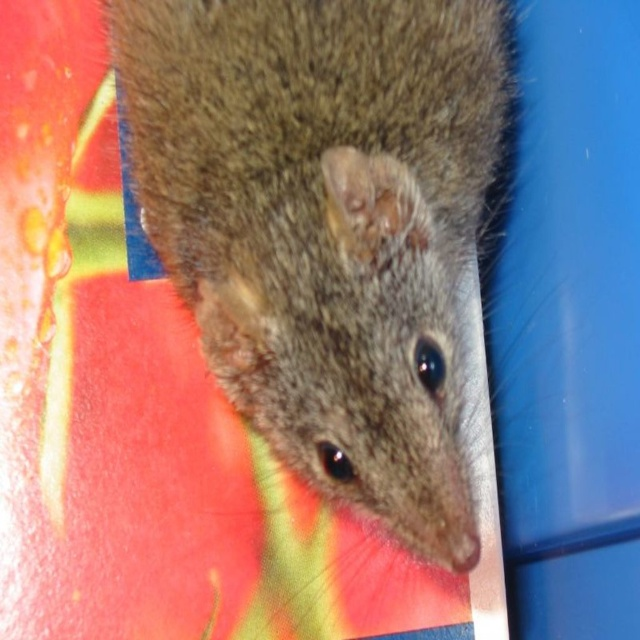Mouse: (99, 0, 568, 639)
